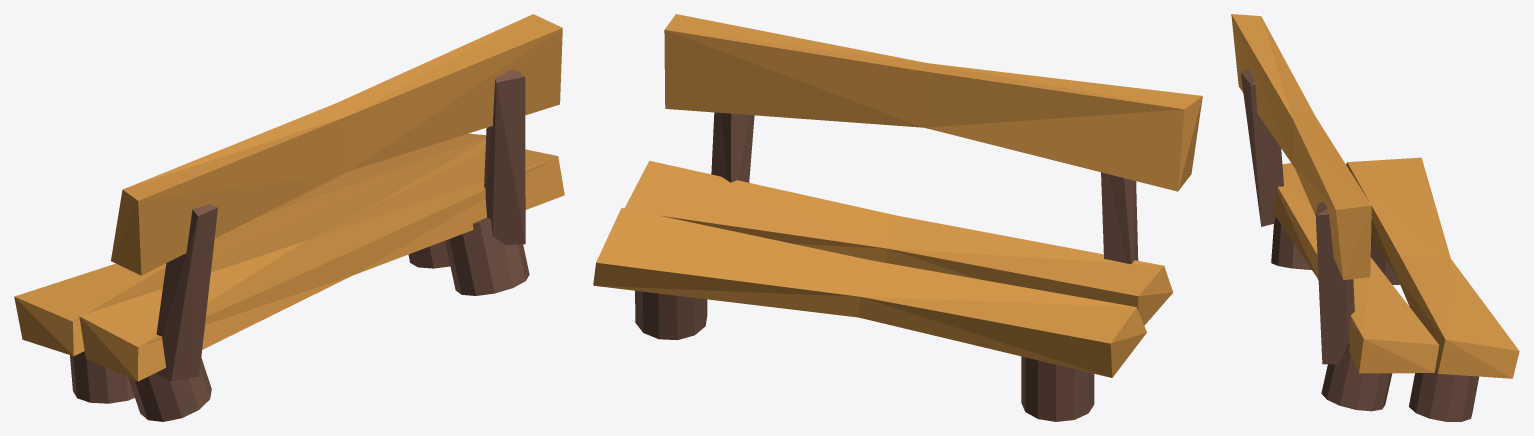
File: Garden_bench.glb
The picture shows the model from 3 angles, left to right: view 1: azimuth 30°, elevation 25°; view 2: azimuth 150°, elevation 25°; view 3: azimuth 270°, elevation 25°; orthographic projection. The views are drawn at different scales.
Visible parts, largest first — view 1: group2086105856, group447724109, group1447054442, group1857767654, group361907561, group1064794239, group1480869683, group1698771934, group613786310; view 2: group2086105856, group1447054442, group447724109, group1698771934, group1857767654, group613786310, group361907561; view 3: group1447054442, group2086105856, group447724109, group361907561, group1857767654, group613786310, group1064794239, group1480869683, group1698771934.
Part boxes in pixels (x1,y1,x2,y2): group2086105856: (111,14,562,275); group447724109: (79,149,564,381); group1447054442: (14,133,486,356); group1857767654: (155,204,217,381); group361907561: (484,69,525,244); group1064794239: (445,217,529,295); group1480869683: (128,358,211,421); group1698771934: (70,351,134,403); group613786310: (408,241,450,268); group2086105856: (664,14,1202,191); group1447054442: (593,207,1146,377); group447724109: (625,160,1173,325); group1698771934: (1021,356,1094,421); group1857767654: (1101,172,1138,264); group613786310: (635,290,707,339); group361907561: (711,112,754,182); group1447054442: (1346,157,1519,378); group2086105856: (1231,14,1371,280); group447724109: (1272,163,1439,373); group361907561: (1315,201,1354,364); group1857767654: (1240,69,1283,226); group613786310: (1409,368,1478,421); group1064794239: (1321,342,1392,411); group1480869683: (1271,217,1311,269); group1698771934: (1370,237,1400,284).
Bounding box in the file's own units: 0.9418 × 0.4947 × 0.5271.
